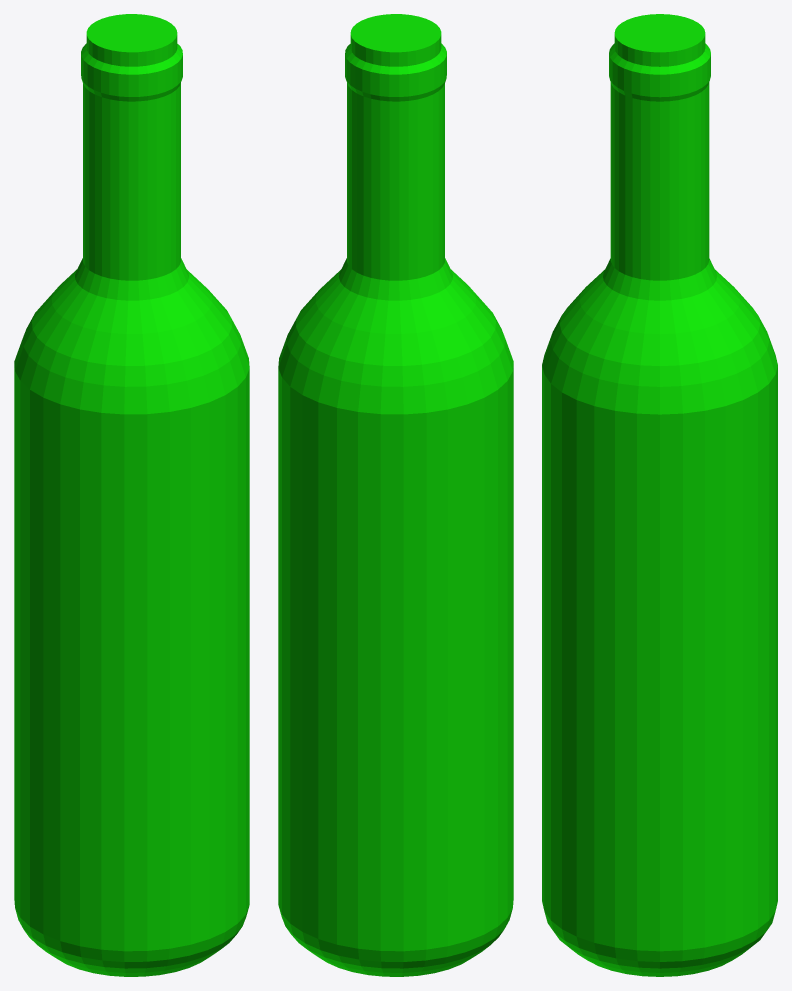
The model's file is GlassBottle.fbx.
3 renders of one model, left to right at view 1: azimuth 30°, elevation 25°; view 2: azimuth 150°, elevation 25°; view 3: azimuth 270°, elevation 25°, orthographic.
Visible parts, largest first — view 1: Cylinder; view 2: Cylinder; view 3: Cylinder.
Part boxes in pixels (left/top/right/bottom): Cylinder: left=14, top=14, right=249, bottom=976; Cylinder: left=278, top=14, right=513, bottom=976; Cylinder: left=542, top=14, right=777, bottom=976.
Size of the model in its own units: 165 by 700 by 165.
